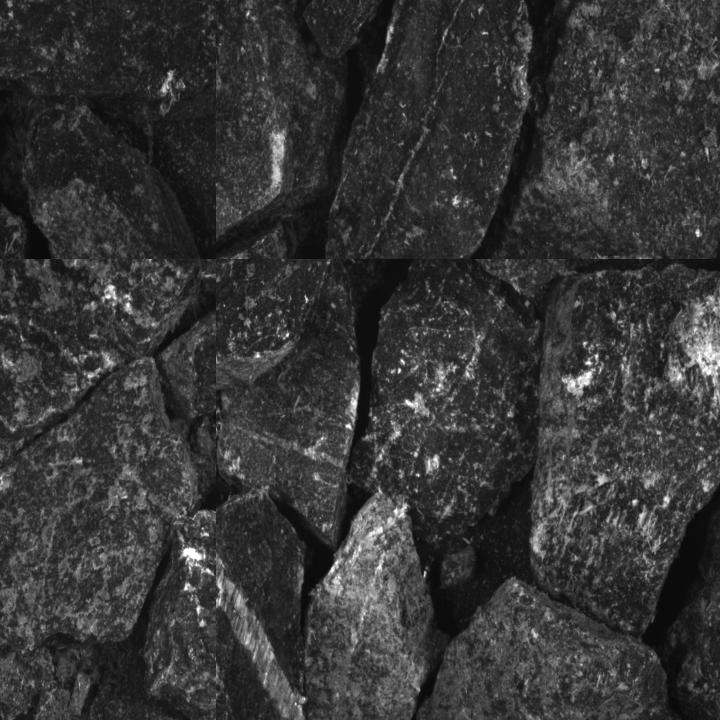stone: (529, 265, 719, 631), (474, 0, 719, 258), (346, 259, 541, 575), (0, 354, 199, 645), (324, 0, 534, 258), (216, 259, 388, 546), (0, 259, 201, 469), (416, 576, 700, 719), (216, 0, 349, 258), (306, 492, 445, 719), (22, 98, 215, 258), (216, 259, 399, 403), (0, 0, 215, 122), (216, 491, 307, 719), (664, 345, 719, 719), (143, 512, 215, 719), (157, 263, 215, 442), (92, 653, 215, 719), (306, 0, 451, 55)
